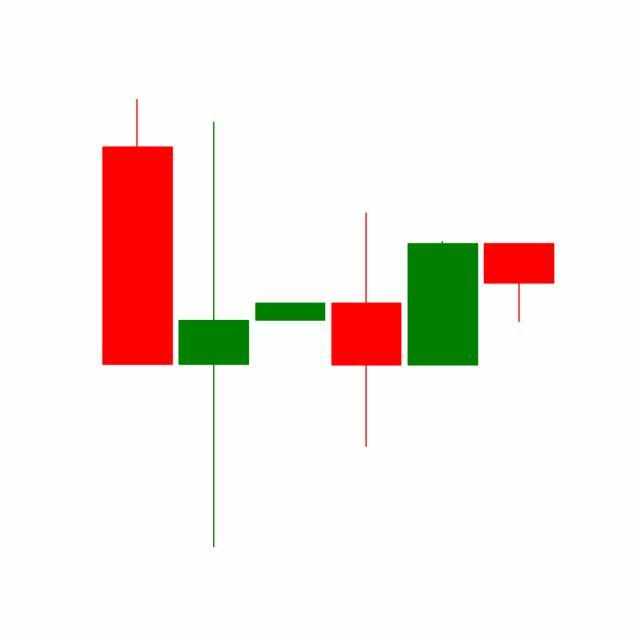Marubozu: (404, 240, 482, 367)
